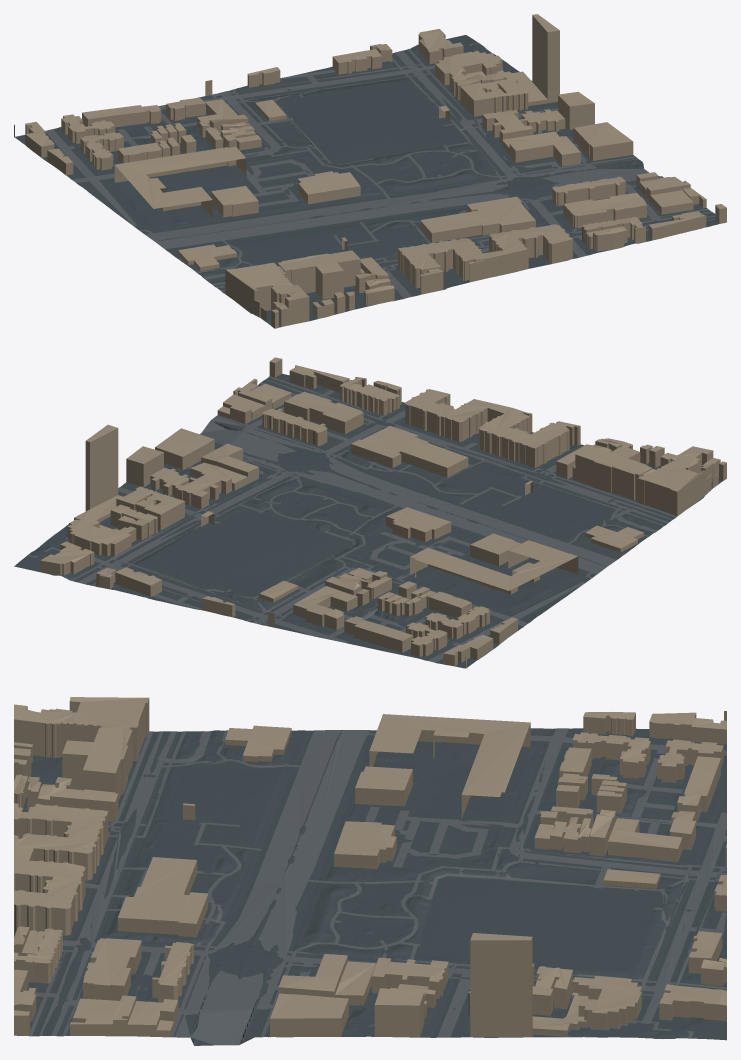
File: epsg26910-1431-10890.lod0.glb
3 renders of one model, top to bottom at view 1: azimuth 30°, elevation 25°; view 2: azimuth 150°, elevation 25°; view 3: azimuth 270°, elevation 25°, orthographic. The views are drawn at different scales.
Parts seen in each view (by area): view 1: epsg26910-1431-10890-lod0; view 2: epsg26910-1431-10890-lod0; view 3: epsg26910-1431-10890-lod0.
Part boxes in pixels (bbox=[...]): epsg26910-1431-10890-lod0: bbox=[14, 14, 726, 328]; epsg26910-1431-10890-lod0: bbox=[14, 357, 726, 668]; epsg26910-1431-10890-lod0: bbox=[14, 697, 726, 1045].
Size of the model in its own units: 384 by 62.91 by 384.
